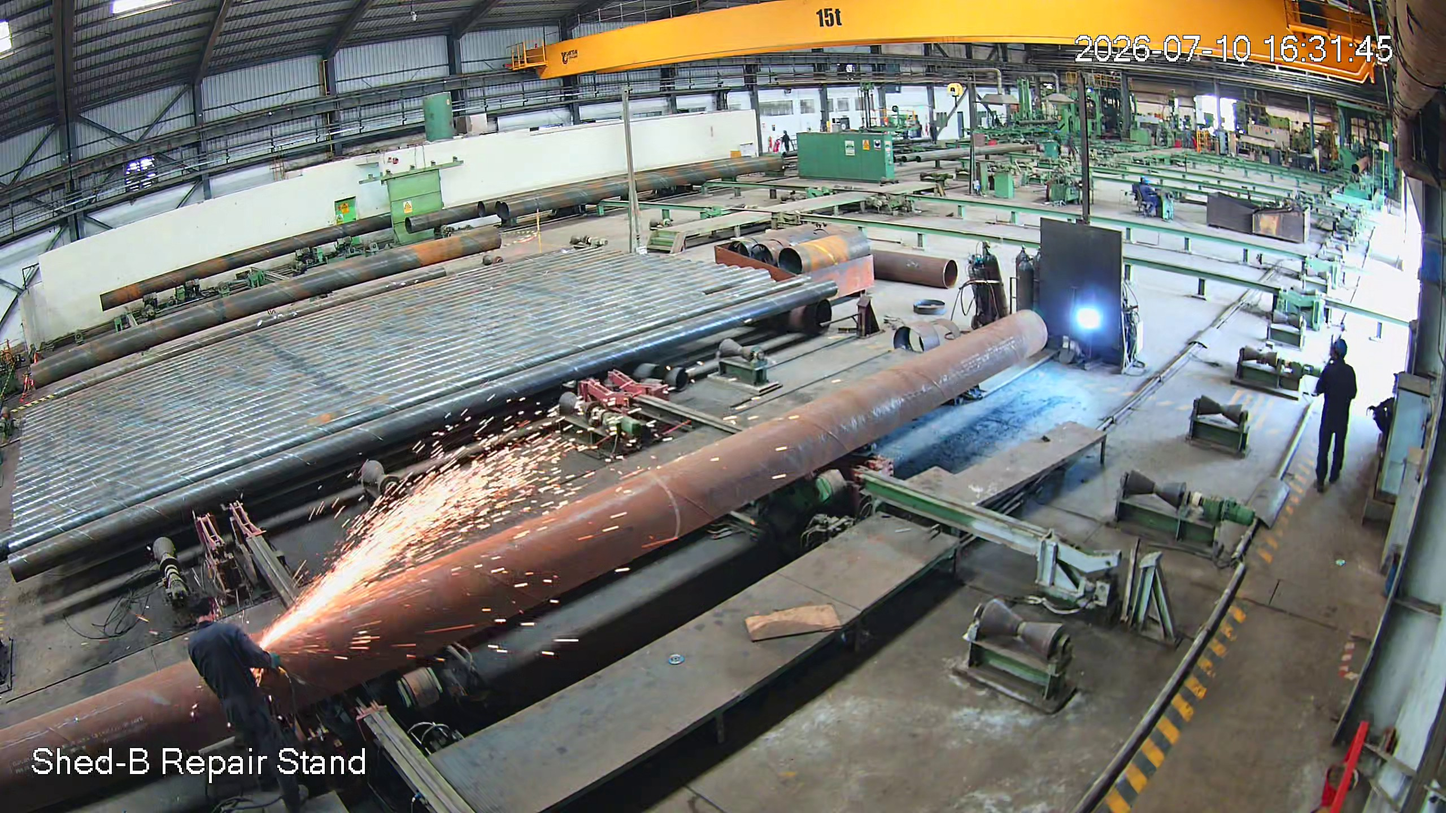Helmet: (186, 585, 231, 646), (1326, 333, 1363, 373)
Person: (181, 591, 319, 813), (1306, 336, 1367, 501)
